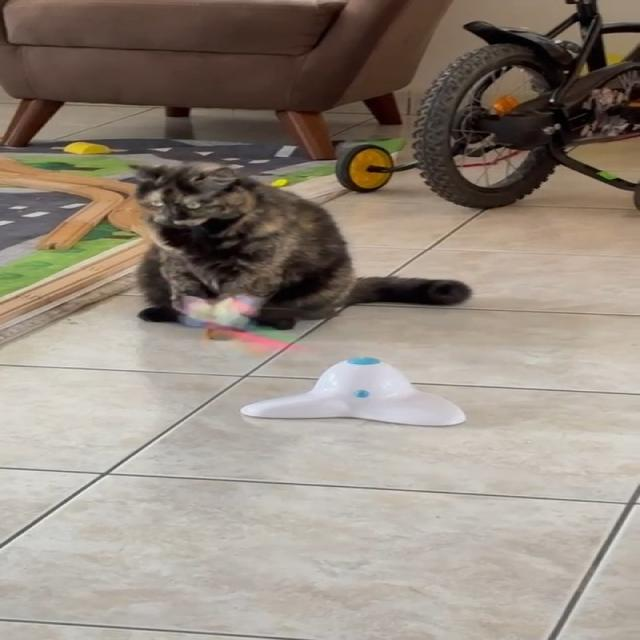authorized: (129, 160, 472, 330)
